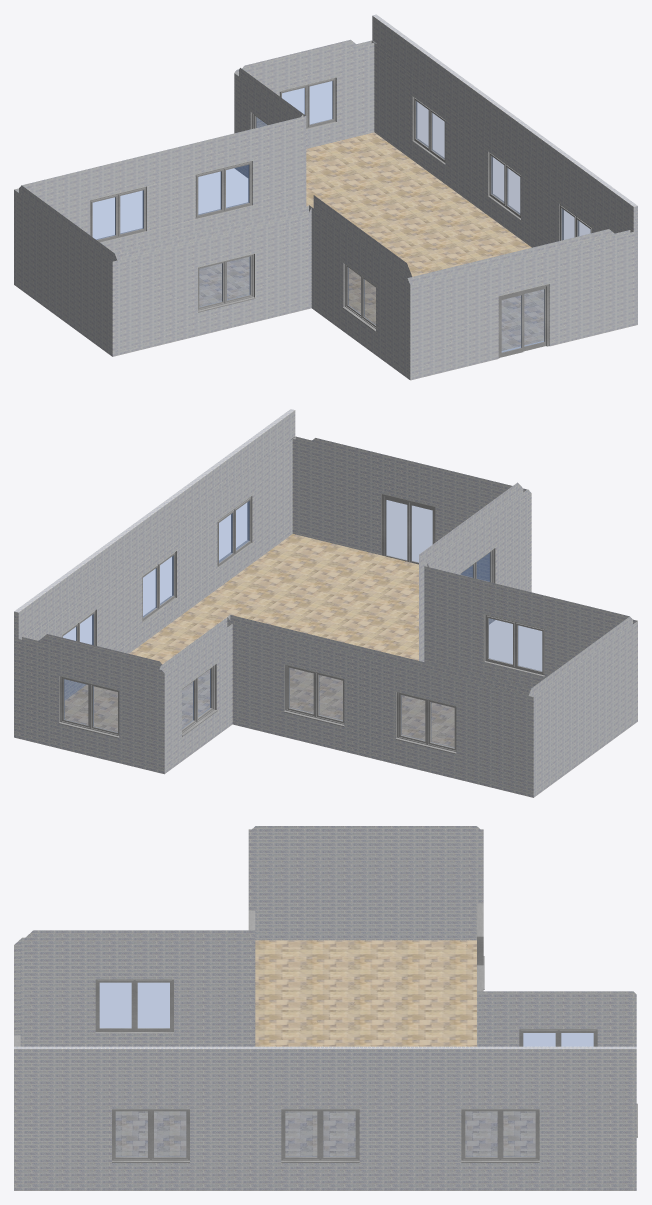
File: telhado45a.glb
3 views of the same model, one above another, from view 1: azimuth 30°, elevation 25°; view 2: azimuth 150°, elevation 25°; view 3: azimuth 270°, elevation 25° (orthographic). The views are drawn at different scales.
Parts seen in each view (by area): view 1: object 2, root, object 4, object 3; view 2: object 2, root, object 4, object 3; view 3: object 2, root, object 4, object 3.
Part boxes in pixels (x1,y1,x2,y2): object 2: [14, 14, 637, 380]; root: [199, 132, 543, 350]; object 4: [93, 81, 590, 352]; object 3: [90, 77, 591, 358]; object 2: [14, 409, 637, 797]; root: [64, 534, 488, 747]; object 4: [63, 500, 541, 747]; object 3: [58, 494, 544, 754]; object 2: [14, 826, 636, 1190]; root: [115, 940, 535, 1156]; object 4: [100, 983, 593, 1156]; object 3: [14, 903, 637, 1162].
Size of the model in its own units: 15.03 by 4 by 15.95.
7 materials, 3 textured.
